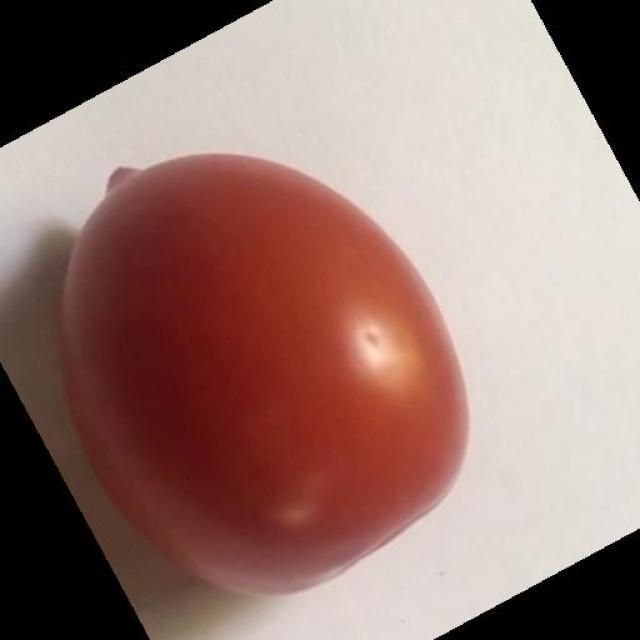Fresh Tomato: (42, 121, 496, 608)
